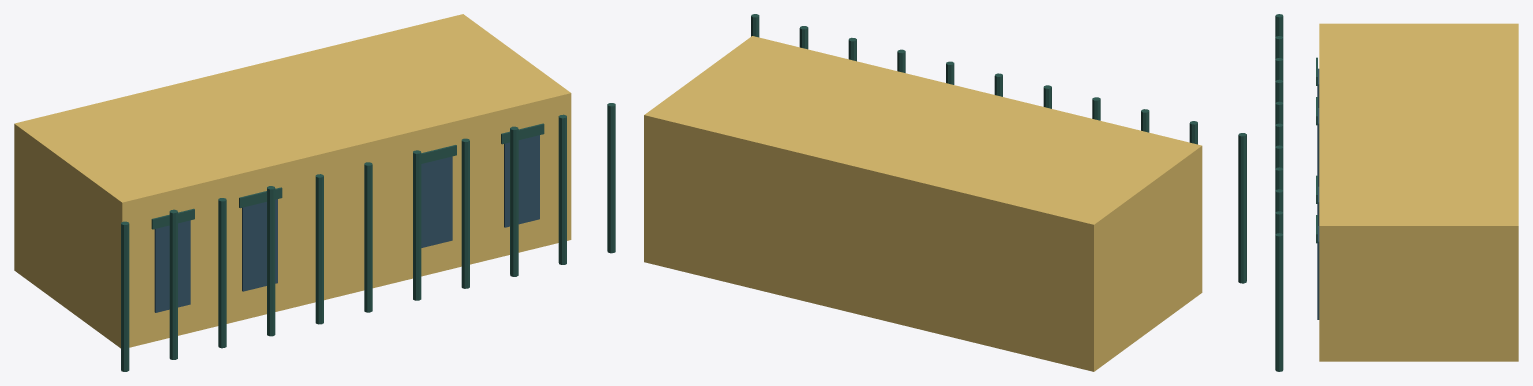
File: andar.glb
3 renders of one model, left to right at view 1: azimuth 30°, elevation 25°; view 2: azimuth 150°, elevation 25°; view 3: azimuth 270°, elevation 25°, orthographic. The views are drawn at different scales.
Visible parts, largest first — view 1: andar; view 2: andar; view 3: andar.
Part boxes in pixels (left/top/right/bottom): andar: left=14, top=14, right=615, bottom=371; andar: left=644, top=14, right=1246, bottom=371; andar: left=1275, top=14, right=1518, bottom=371.
Size of the model in its own units: 7.92 by 2.26 by 3.66.
